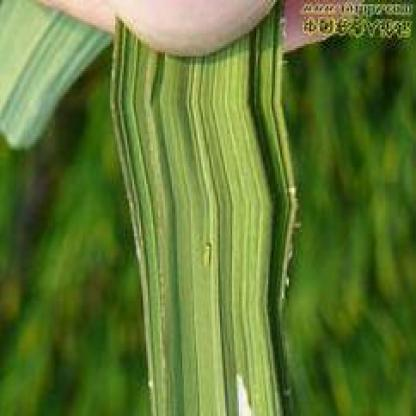leaf-folder: (196, 225, 224, 278)
